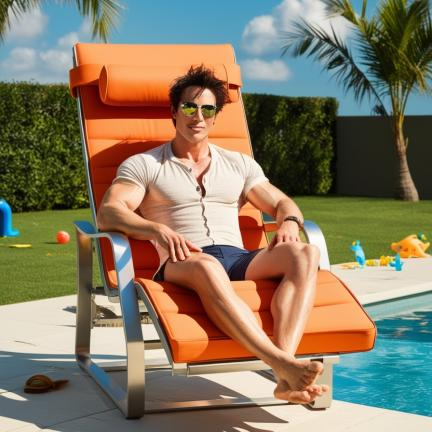guest on chair: (70, 44, 375, 418)
